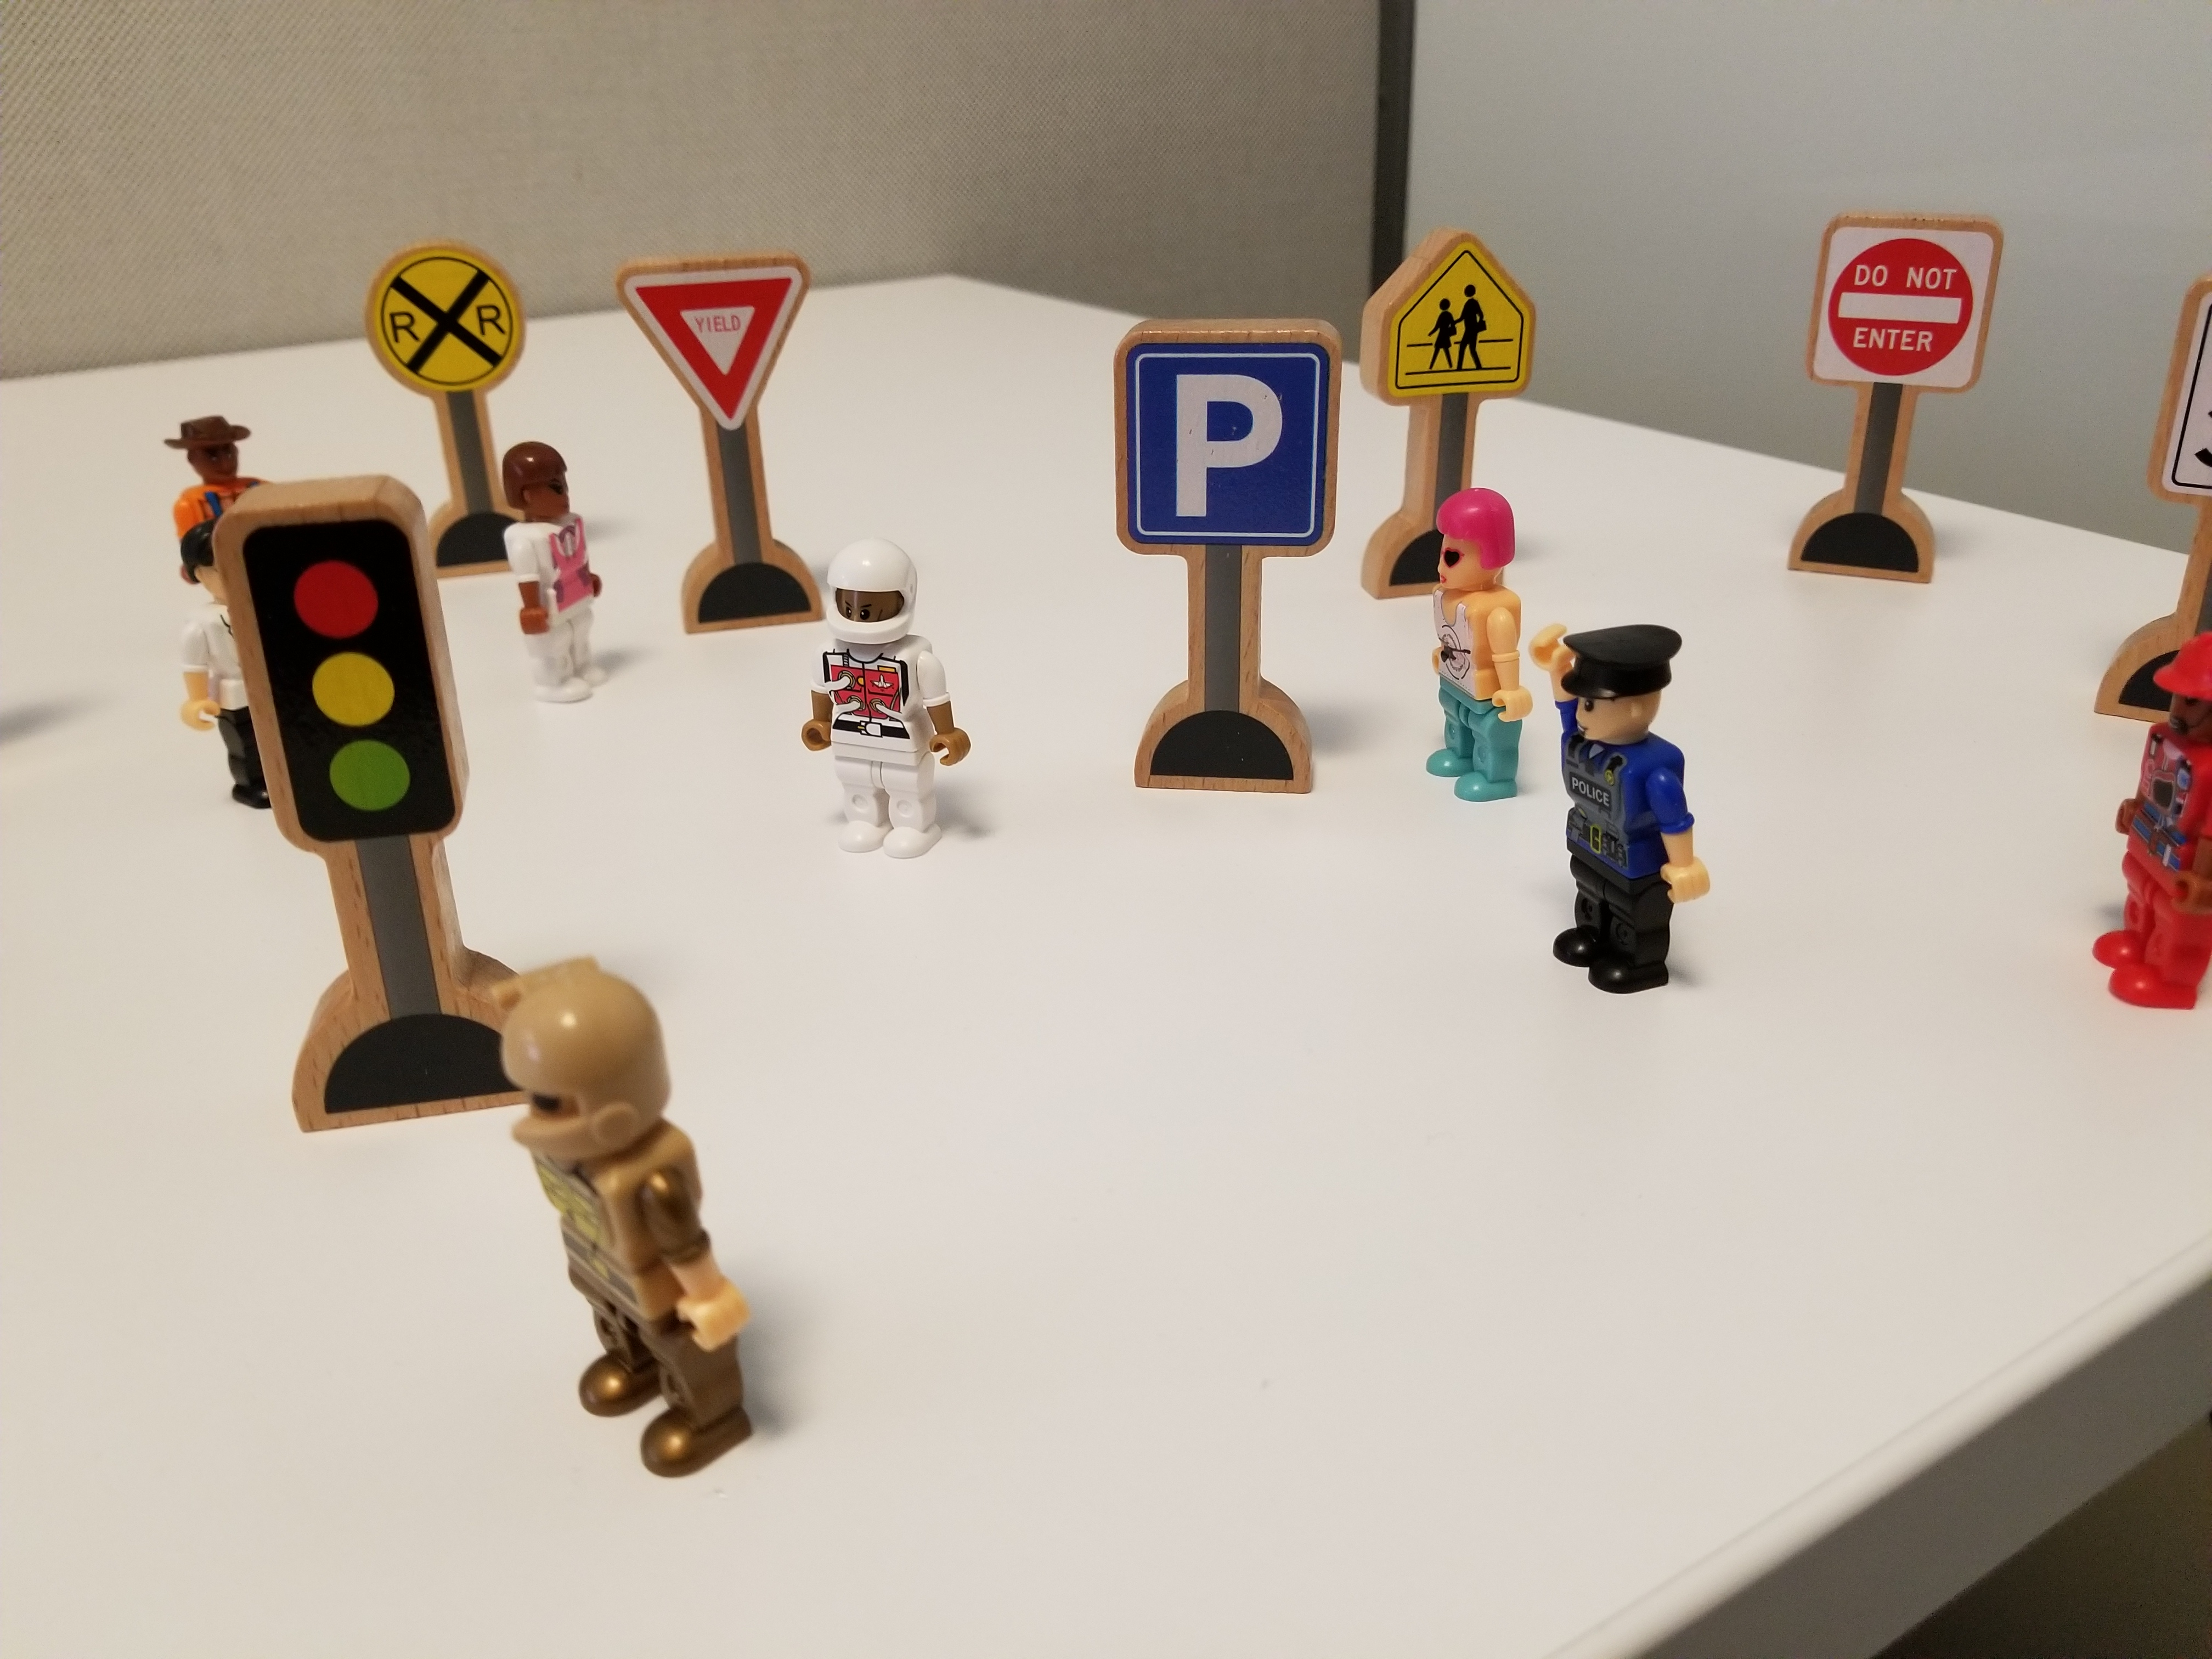Do not enter: (1801, 177, 2016, 637)
Parking: (1085, 275, 1368, 844)
Pedestrian crossing: (1368, 212, 1544, 460)
Railroad Crossing: (332, 207, 534, 411)
Traffic Light: (207, 473, 486, 943)
Yield: (602, 205, 813, 607)
person: (460, 936, 771, 1496), (782, 521, 984, 914), (1524, 591, 1706, 1006), (2086, 598, 2212, 1014), (1412, 469, 1537, 811), (475, 433, 620, 708)
